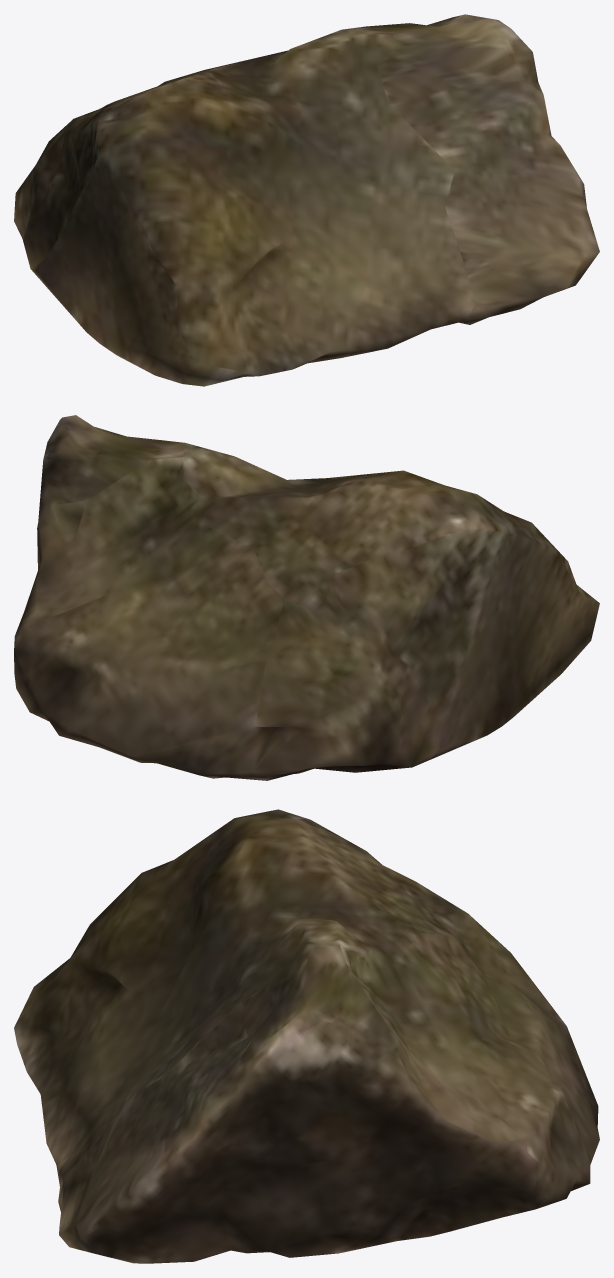
File: rock_moss_set_01_rock03.glb
3 renders of one model, top to bottom at view 1: azimuth 30°, elevation 25°; view 2: azimuth 150°, elevation 25°; view 3: azimuth 270°, elevation 25°, orthographic. The views are drawn at different scales.
Visible parts, largest first — view 1: rock_moss_set_01_rock03; view 2: rock_moss_set_01_rock03; view 3: rock_moss_set_01_rock03.
Boxes of the visible parts, x1,y1,x2,y2 form: rock_moss_set_01_rock03: (14, 14, 599, 386); rock_moss_set_01_rock03: (14, 415, 599, 780); rock_moss_set_01_rock03: (14, 809, 599, 1263).
Size of the model in its own units: 2.1 by 1.09 by 2.08.
Materials: 1 (1 with a texture image).
